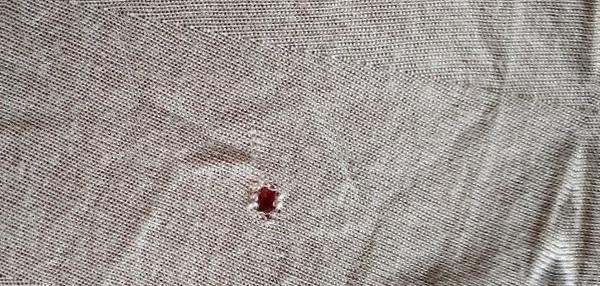hole: (246, 180, 290, 228)
